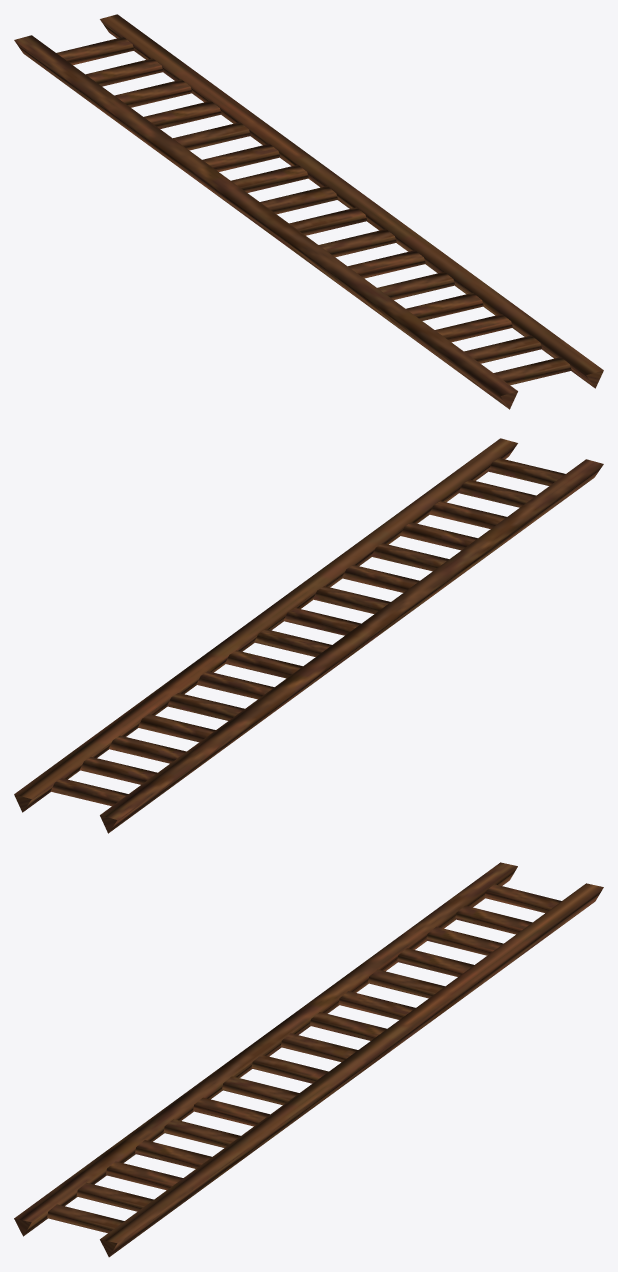
Rendered from INST_SWORDLIGHT_LADDERA.fbx.
The picture shows the model from 3 angles, top to bottom: view 1: azimuth 30°, elevation 25°; view 2: azimuth 150°, elevation 25°; view 3: azimuth 330°, elevation 25°; orthographic projection.
Visible parts, largest first — view 1: INST_SWORDLIGHT_LADDERA; view 2: INST_SWORDLIGHT_LADDERA; view 3: INST_SWORDLIGHT_LADDERA.
Boxes of the visible parts, x1,y1,x2,y2 form: INST_SWORDLIGHT_LADDERA: (14,14,603,409); INST_SWORDLIGHT_LADDERA: (14,438,603,833); INST_SWORDLIGHT_LADDERA: (14,862,603,1257).
Bounding box in the file's own units: 6138 × 927 × 49967.
Materials: 1 (1 with a texture image).
